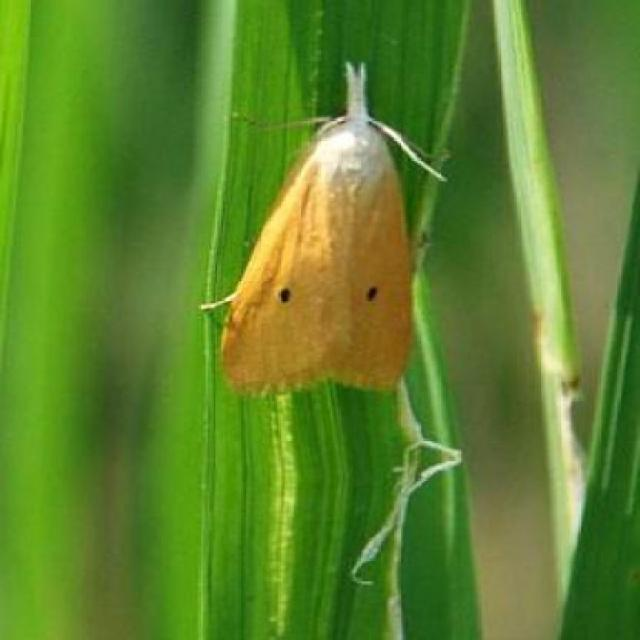stem-borer: (197, 55, 446, 403)
